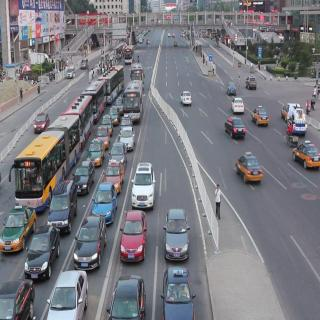BigCar: (11, 114, 79, 204), (282, 98, 310, 136), (99, 64, 126, 103), (124, 76, 142, 123), (120, 41, 135, 64), (130, 64, 145, 80)
Car: (24, 222, 60, 282), (48, 267, 88, 320), (160, 267, 198, 320), (73, 211, 106, 272), (105, 272, 145, 320), (1, 201, 35, 256), (162, 202, 192, 264), (1, 275, 39, 320), (49, 176, 78, 234), (122, 206, 148, 264), (131, 158, 156, 213), (92, 180, 118, 226), (236, 150, 265, 184), (294, 140, 318, 173), (102, 158, 124, 193), (72, 161, 92, 195), (225, 114, 247, 142), (251, 102, 269, 129), (88, 139, 103, 166), (120, 125, 136, 150), (110, 139, 127, 162), (32, 110, 47, 132), (245, 73, 259, 92), (232, 95, 245, 114), (97, 126, 110, 145), (181, 87, 192, 108), (227, 80, 238, 97), (101, 114, 112, 131), (119, 114, 133, 127), (110, 105, 119, 123), (79, 57, 90, 69), (66, 67, 74, 78)
